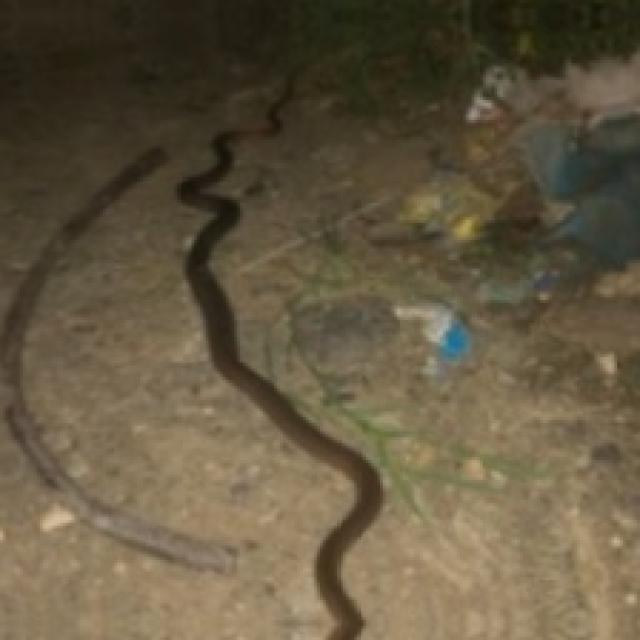reddish rat snake: (177, 71, 380, 637), (0, 146, 234, 571)
